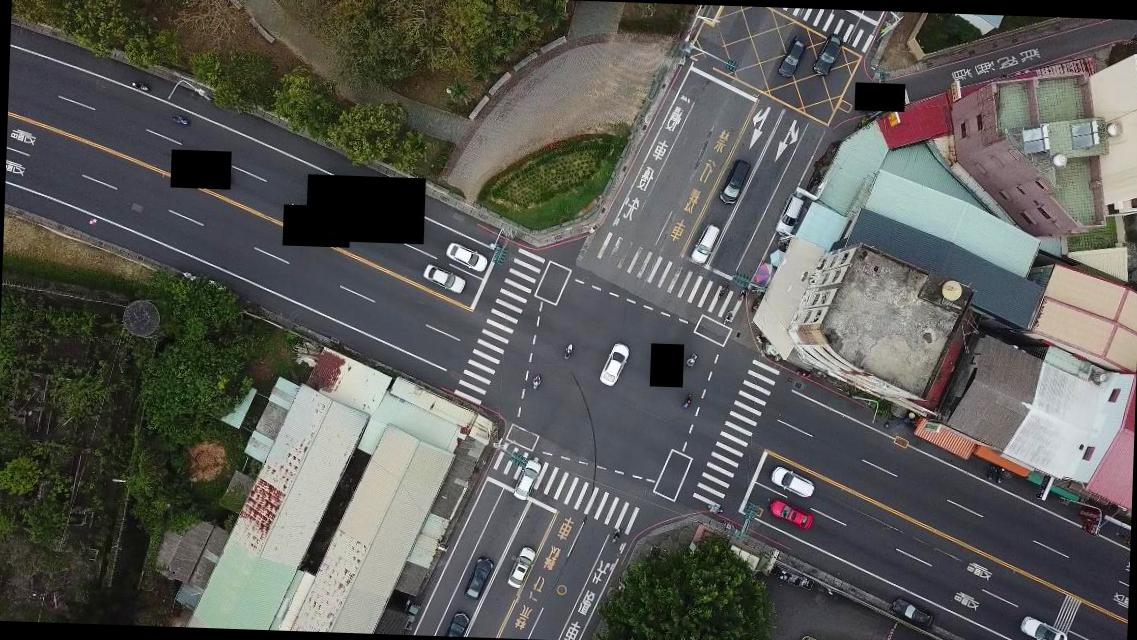vehicle: (717, 157, 752, 206), (769, 466, 815, 501), (812, 30, 845, 76), (890, 596, 936, 629), (462, 556, 494, 602), (774, 192, 805, 237), (768, 499, 814, 528), (422, 264, 466, 294), (444, 242, 488, 272), (507, 546, 537, 590), (599, 342, 629, 386), (777, 34, 807, 78), (512, 458, 541, 500), (691, 222, 720, 264), (1019, 615, 1069, 639), (442, 608, 472, 636)
